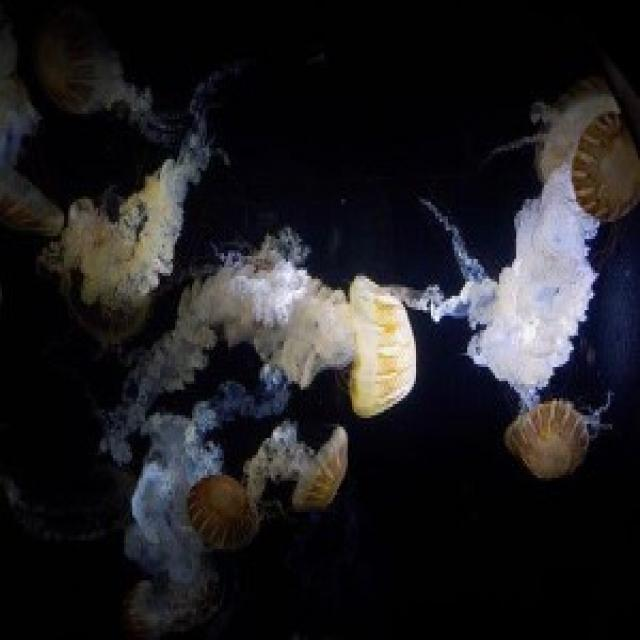Jellyfish: (221, 258, 434, 425), (488, 369, 620, 507), (28, 0, 130, 128), (567, 109, 637, 285), (259, 423, 357, 521), (166, 475, 264, 566), (0, 148, 71, 256)
